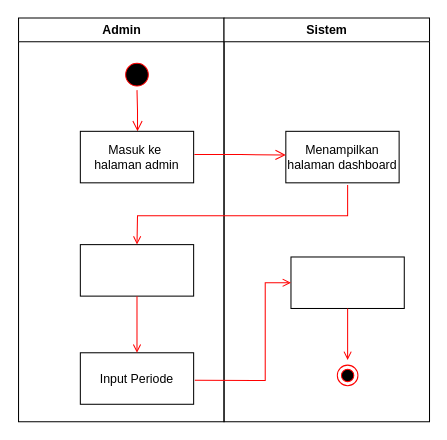
This 447x440 diagram has some shape labels left out. The shapes that lost their labels are listed below. From the top down, each one's centre as x and y in pixels, then its label:
At (x=136, y=270): "Masuk Menu Prediksi".
At (x=347, y=282): "Menampilkan Hasil Prediksi".
